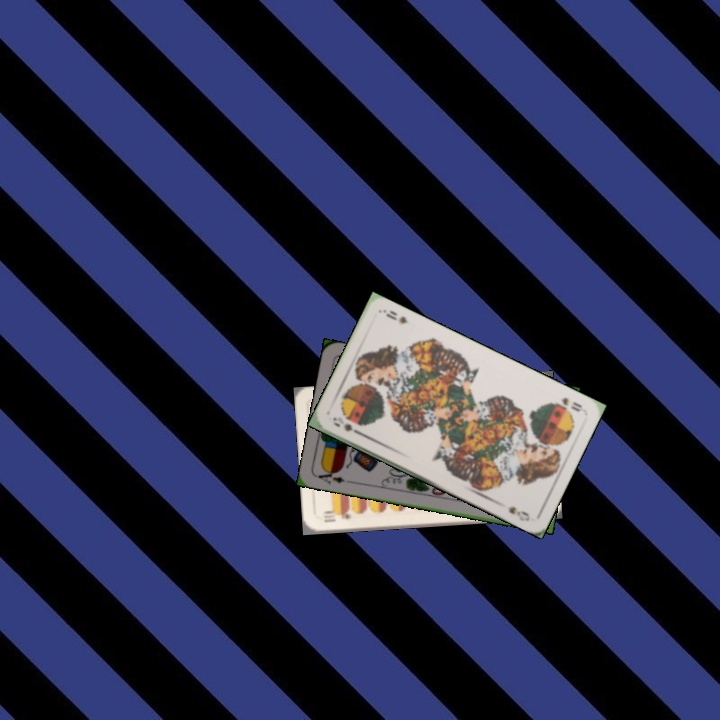E10: (320, 508, 354, 525)
EA: (313, 465, 354, 486)
SO: (329, 413, 365, 438), (551, 393, 586, 414)
